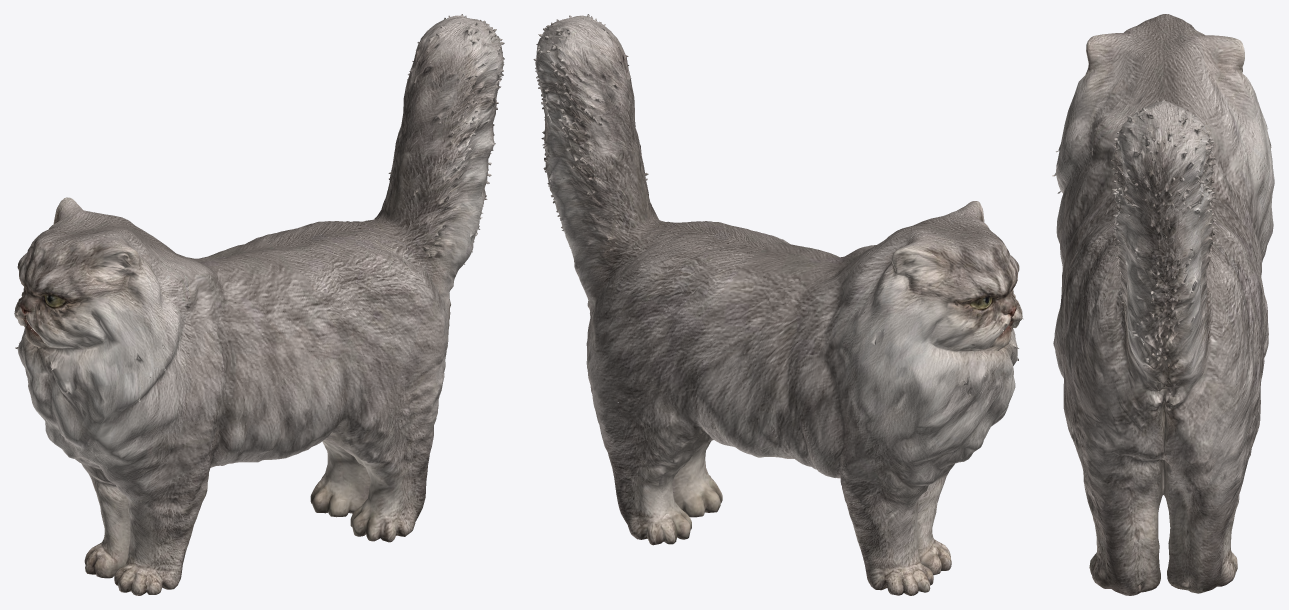
The model's file is CLIVECAT.glb.
The picture shows the model from 3 angles, left to right: view 1: azimuth 30°, elevation 25°; view 2: azimuth 150°, elevation 25°; view 3: azimuth 270°, elevation 25°; orthographic projection. The views are drawn at different scales.
Parts seen in each view (by area): view 1: tripo_node_0336a1d1-53c0-42aa-9d50-41682311eb4e; view 2: tripo_node_0336a1d1-53c0-42aa-9d50-41682311eb4e; view 3: tripo_node_0336a1d1-53c0-42aa-9d50-41682311eb4e.
Part boxes in pixels (bbox=[...]): tripo_node_0336a1d1-53c0-42aa-9d50-41682311eb4e: bbox=[14, 14, 504, 595]; tripo_node_0336a1d1-53c0-42aa-9d50-41682311eb4e: bbox=[533, 14, 1023, 595]; tripo_node_0336a1d1-53c0-42aa-9d50-41682311eb4e: bbox=[1052, 14, 1274, 595].
Bounding box in the file's own units: 1.04 × 0.9995 × 0.3817.
1 material, 1 textured.
